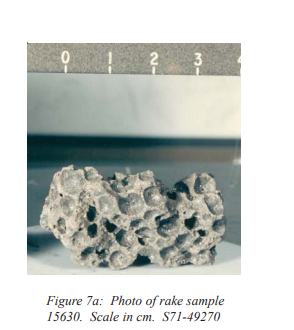Basalt: (40, 143, 235, 269)
